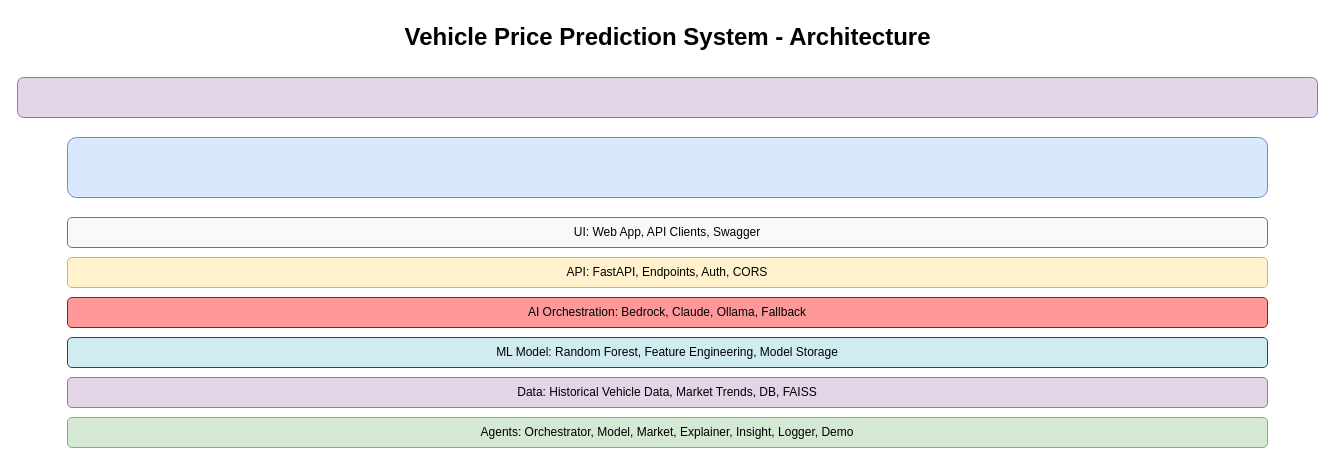
This 1335x465 diagram has some shape labels left out. The shapes that lost their labels are listed below. From the top down, each one's box as (x1, y1, x2, y2) in pixels, then its label:
(16, 76, 1318, 118): Architecture Overview
(66, 136, 1268, 198): Layers: UI, API, AI Orchestration, ML Model, Data, Agents
